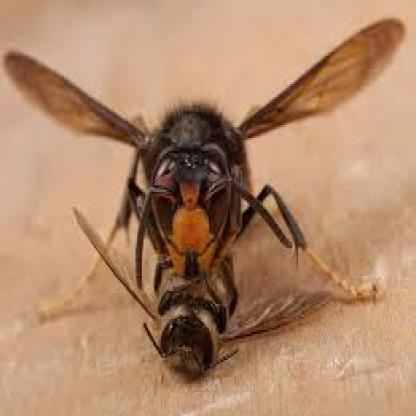asian: (4, 35, 402, 258)
